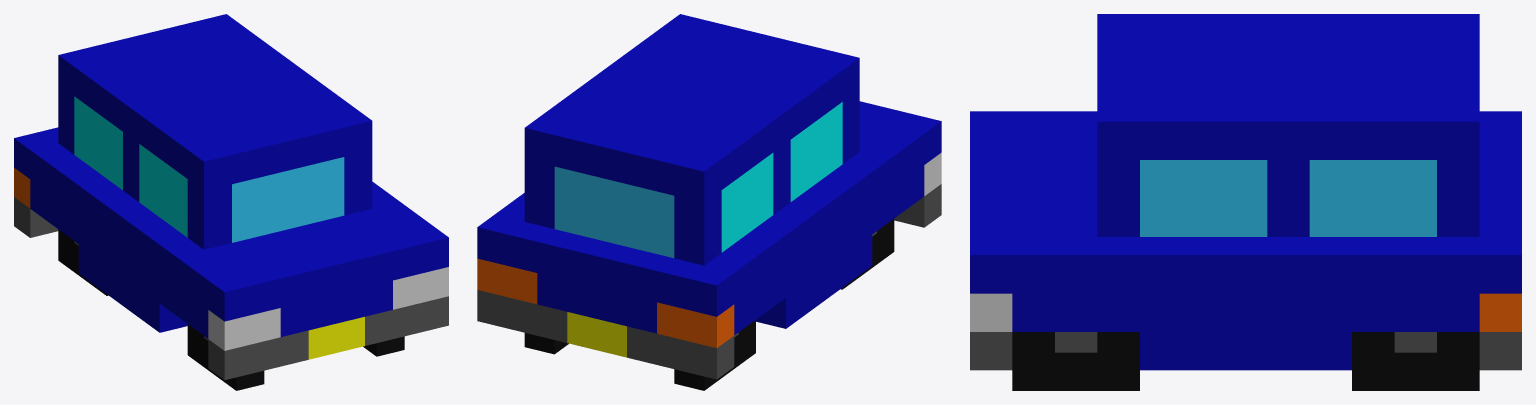
File: Car_bule.fbx
3 views of the same model, side by side, from view 1: azimuth 30°, elevation 25°; view 2: azimuth 150°, elevation 25°; view 3: azimuth 270°, elevation 25° (orthographic). The views are drawn at different scales.
Parts seen in each view (by area): view 1: 立方体.209, 立方体.421, 立方体.013, 立方体.367, 立方体.105, 立方体.313, 立方体.212, 立方体.425, 立方体.210, 立方体.211, 立方体.423, 立方体.213 (+142 smaller); view 2: 立方体.469, 立方体.305, 立方体.201, 立方体.097, 立方体.361, 立方体.415, 立方体.312, 立方体.471, 立方体.473, 立方体.310, 立方体.311, 立方体.472 (+130 smaller); view 3: 立方体.264, 立方体.444, 立方体.216, 立方体.224, 立方体.232, 立方体.240, 立方体.248, 立方体.256, 立方体.272, 立方体.280, 立方体.288, 立方体.296 (+133 smaller).
Boxes of the visible parts, box(x1,y1,x2,y2) form: 立方体.209: box(208, 273, 252, 321); 立方体.421: box(187, 143, 231, 190); 立方体.013: box(208, 339, 252, 380); 立方体.367: box(187, 179, 231, 220); 立方体.105: box(208, 310, 252, 350); 立方体.313: box(187, 209, 231, 249); 立方体.212: box(293, 253, 336, 300); 立方体.425: box(300, 116, 344, 163); 立方体.210: box(236, 266, 280, 314); 立方体.211: box(265, 260, 308, 307); 立方体.423: box(244, 129, 288, 177); 立方体.213: box(321, 246, 364, 293); 立方体.469: box(674, 151, 721, 202); 立方体.305: box(687, 265, 734, 316); 立方体.201: box(687, 304, 734, 348); 立方体.097: box(687, 336, 734, 379); 立方体.361: box(674, 222, 721, 265); 立方体.415: box(674, 190, 721, 234); 立方体.312: box(477, 214, 524, 265); 立方体.471: box(614, 137, 661, 188); 立方体.473: box(554, 122, 601, 173); 立方体.310: box(537, 229, 583, 280); 立方体.311: box(507, 222, 554, 272); 立方体.472: box(584, 130, 631, 180); 立方体.264: box(1224, 237, 1267, 293); 立方体.444: box(1224, 103, 1267, 159); 立方体.216: box(970, 237, 1012, 293); 立方体.224: box(1012, 237, 1054, 293); 立方体.232: box(1055, 237, 1097, 293); 立方体.240: box(1097, 237, 1139, 293); 立方体.248: box(1140, 237, 1182, 293); 立方体.256: box(1182, 237, 1224, 293); 立方体.272: box(1267, 237, 1309, 293); 立方体.280: box(1309, 237, 1351, 293); 立方体.288: box(1352, 237, 1394, 293); 立方体.296: box(1394, 237, 1436, 293).
Size of the model in its own units: 800 by 700 by 1300.
